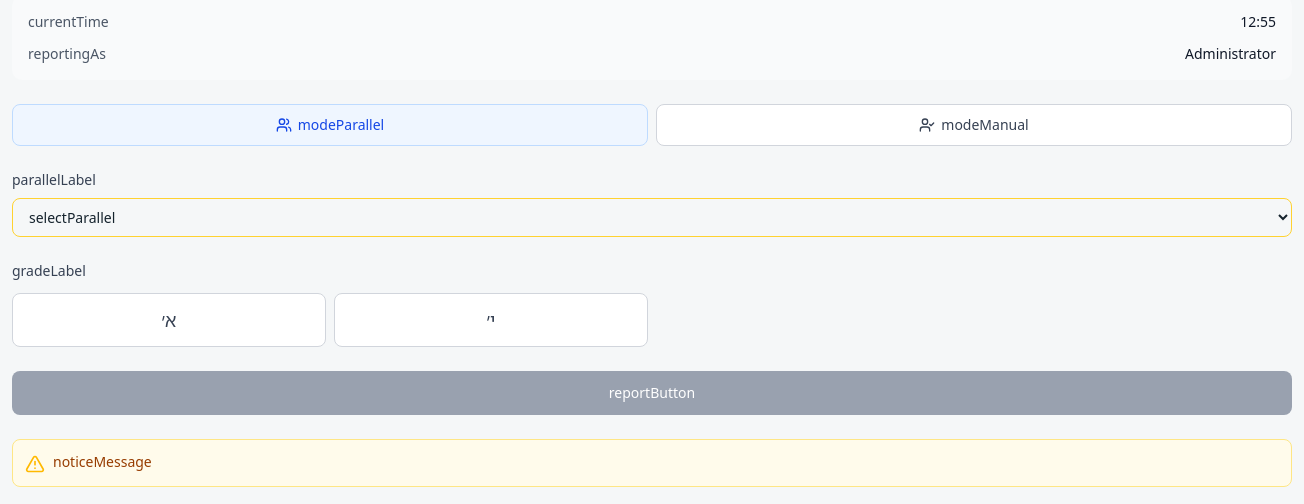
Test: ManagementReportForm › selects parallel and shows time options
Step 1. Select "parallelOption" in the dropdown → (652, 218), box left=12, top=198, right=1292, bottom=237
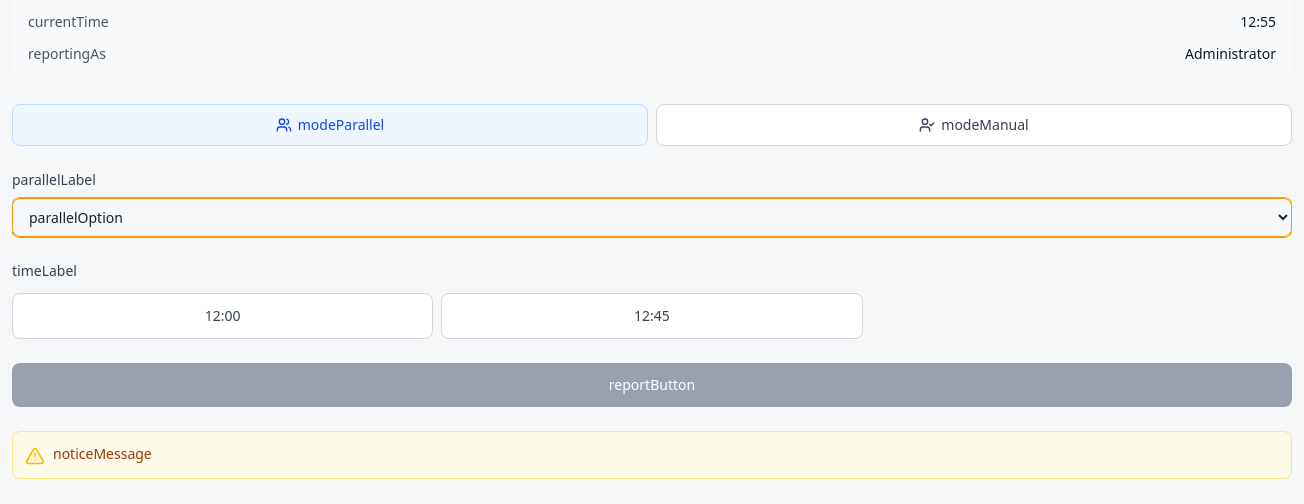
expect the text "timeLabel" is shown: met, box left=12, top=261, right=77, bottom=280
expect the number of buttons with test id "select-time" is 2: met, box left=12, top=293, right=433, bottom=339; left=441, top=293, right=863, bottom=339
